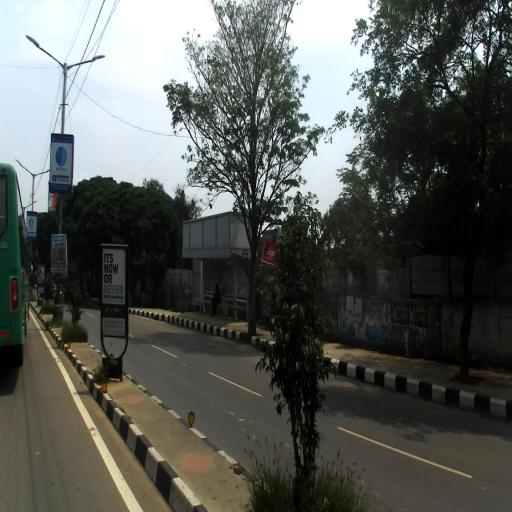street_light_0: (26, 37, 68, 73), (62, 54, 105, 74), (14, 160, 36, 179), (32, 170, 50, 178), (24, 200, 37, 208)
